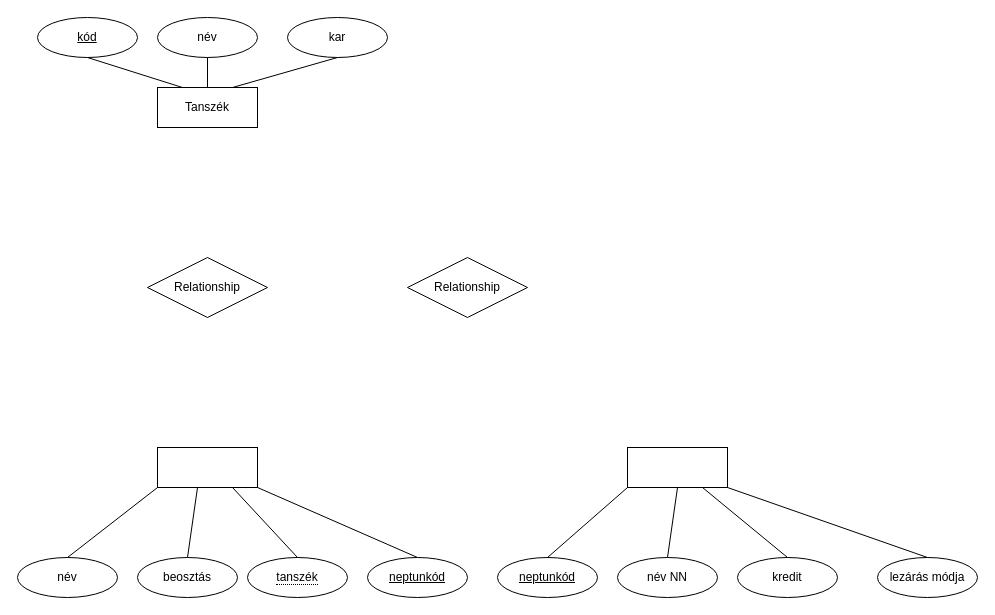
This 995x615 diagram has some shape labels left out. The shapes that lost their labels are listed below. From the top down, each one's centre as x and y in pixels, then its label:
point (207, 467): Oktató
point (677, 467): Tantárgy
